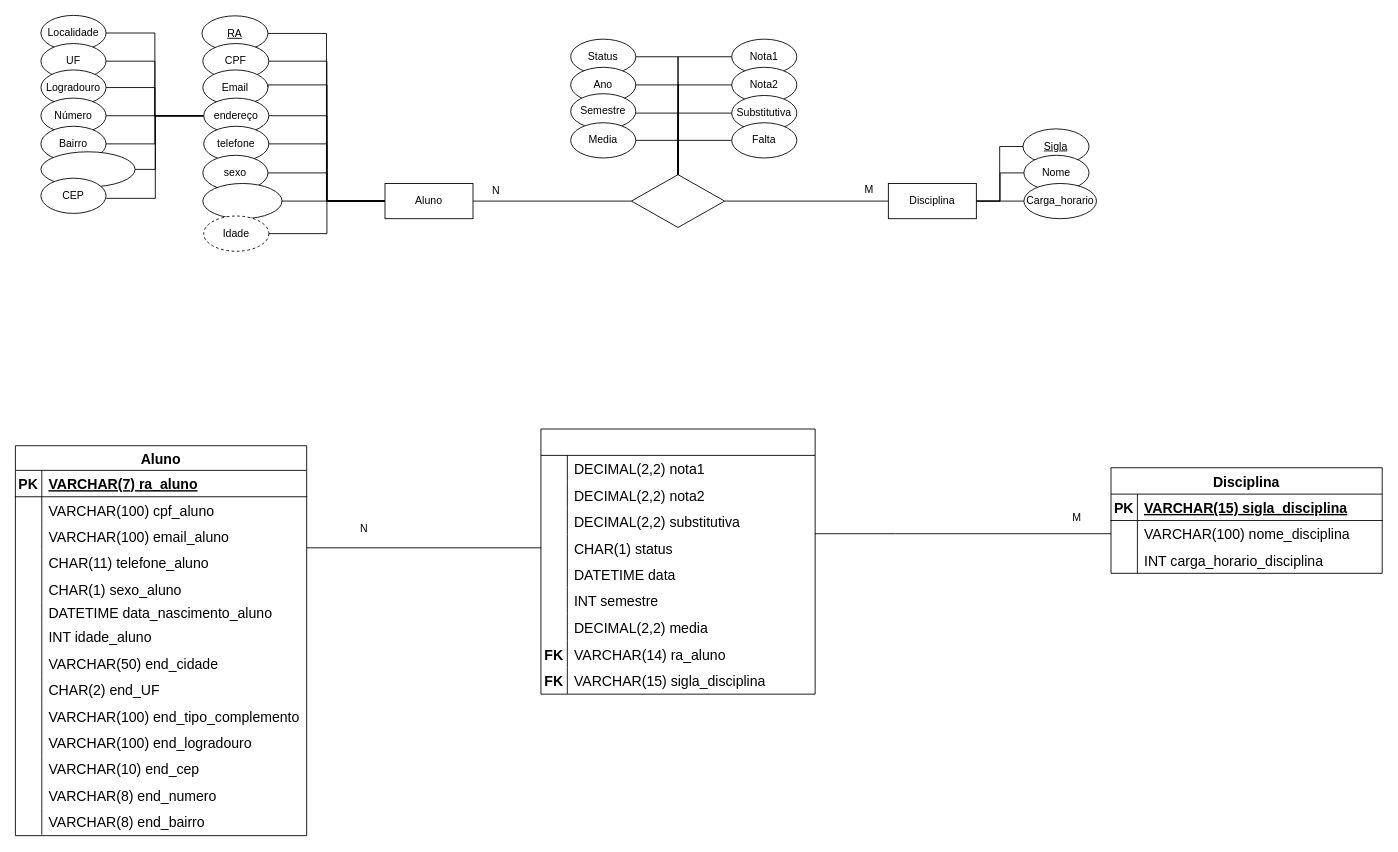
The diagram is 1398 pixels wide and 852 high, and some of its shapes have lost their labels. Here are the shapes that lost their labels. From the top down, the box of each, then its label:
(40, 151, 135, 187): tipo_logradouro
(202, 183, 282, 219): Data Nascimento
(631, 174, 725, 227): possui
(540, 428, 815, 694): Aluno_Disciplina
